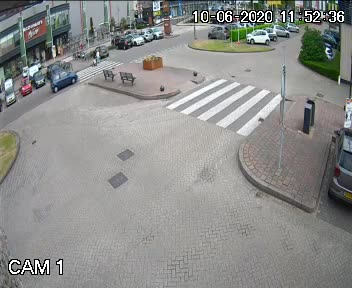car: (48, 68, 82, 92)
